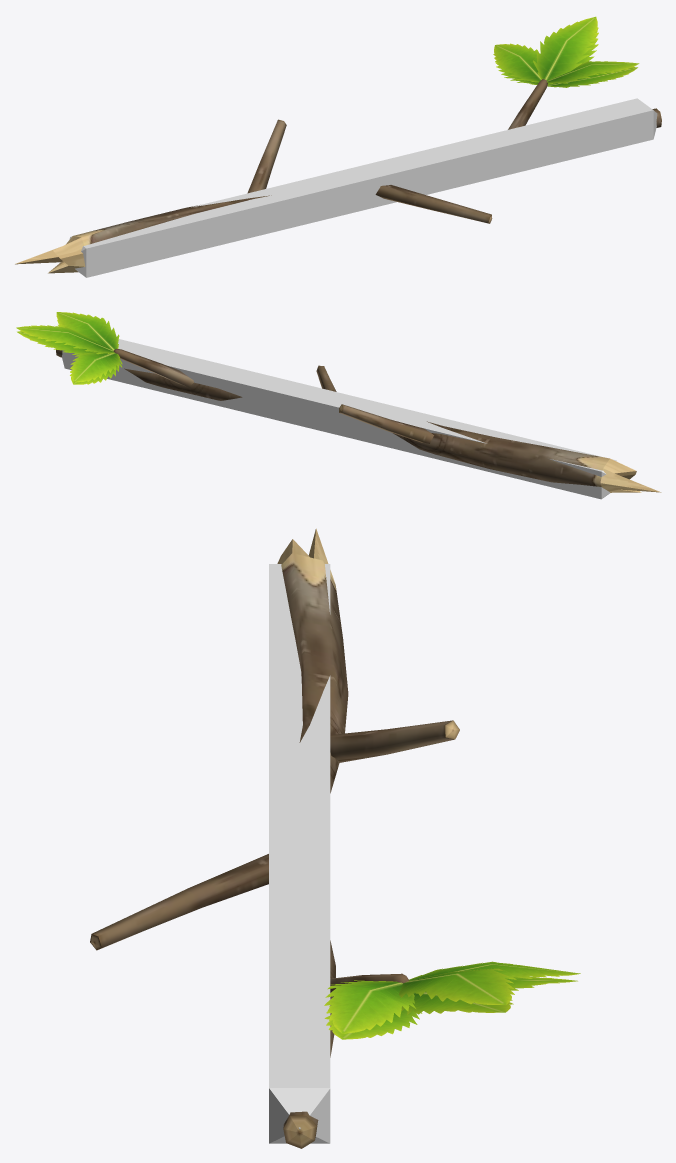
File: IO_Branch_A.glb
The picture shows the model from 3 angles, top to bottom: view 1: azimuth 30°, elevation 25°; view 2: azimuth 150°, elevation 25°; view 3: azimuth 270°, elevation 25°; orthographic projection. The views are drawn at different scales.
Parts seen in each view (by area): view 1: IO_Branch_A_COL, IO_Branch_A_LOD0, IO_Branch_A_LOD0_Leaves, IO_Branch_A_LOD1_Leaves; view 2: IO_Branch_A_COL, IO_Branch_A_LOD0, IO_Branch_A_LOD0_Leaves, IO_Branch_A_LOD1_Leaves; view 3: IO_Branch_A_COL, IO_Branch_A_LOD0, IO_Branch_A_LOD0_Leaves, IO_Branch_A_LOD1_Leaves.
Part boxes in pixels (left/top/right/bottom): IO_Branch_A_COL: left=69, top=98, right=657, bottom=277; IO_Branch_A_LOD0: left=15, top=79, right=661, bottom=273; IO_Branch_A_LOD0_Leaves: left=493, top=16, right=639, bottom=83; IO_Branch_A_LOD1_Leaves: left=495, top=26, right=637, bottom=87; IO_Branch_A_COL: left=62, top=339, right=616, bottom=499; IO_Branch_A_LOD0: left=56, top=348, right=661, bottom=492; IO_Branch_A_LOD0_Leaves: left=16, top=312, right=122, bottom=382; IO_Branch_A_LOD1_Leaves: left=17, top=319, right=121, bottom=384; IO_Branch_A_COL: left=269, top=564, right=330, bottom=1143; IO_Branch_A_LOD0: left=90, top=528, right=459, bottom=1148; IO_Branch_A_LOD0_Leaves: left=324, top=961, right=580, bottom=1033; IO_Branch_A_LOD1_Leaves: left=324, top=977, right=577, bottom=1039.
Size of what is drawn, in the model's own units: 0.8879 by 0.1 by 0.3135.
Materials: 2 (2 with a texture image).
